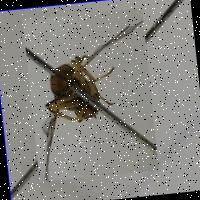Oriental-fruit-fly: (23, 7, 159, 182)
